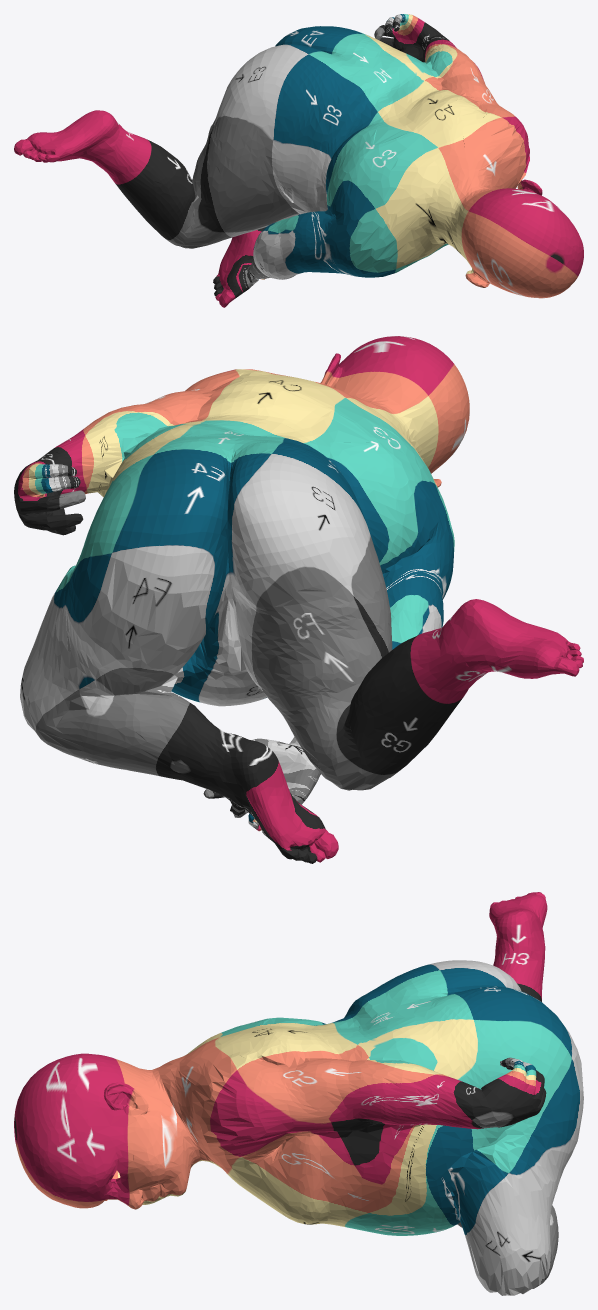
The model's file is kid00-kid22.obj.
3 renders of one model, top to bottom at view 1: azimuth 30°, elevation 25°; view 2: azimuth 150°, elevation 25°; view 3: azimuth 270°, elevation 25°, orthographic. The views are drawn at different scales.
Parts seen in each view (by area): view 1: kid00-kid22_export; view 2: kid00-kid22_export; view 3: kid00-kid22_export.
Boxes of the visible parts, x1,y1,x2,y2 form: kid00-kid22_export: (14,14,583,307); kid00-kid22_export: (14,336,583,863); kid00-kid22_export: (14,892,583,1295).
Bounding box in the file's own units: 0.725 × 0.4266 × 0.7174.
1 material, 1 textured.
